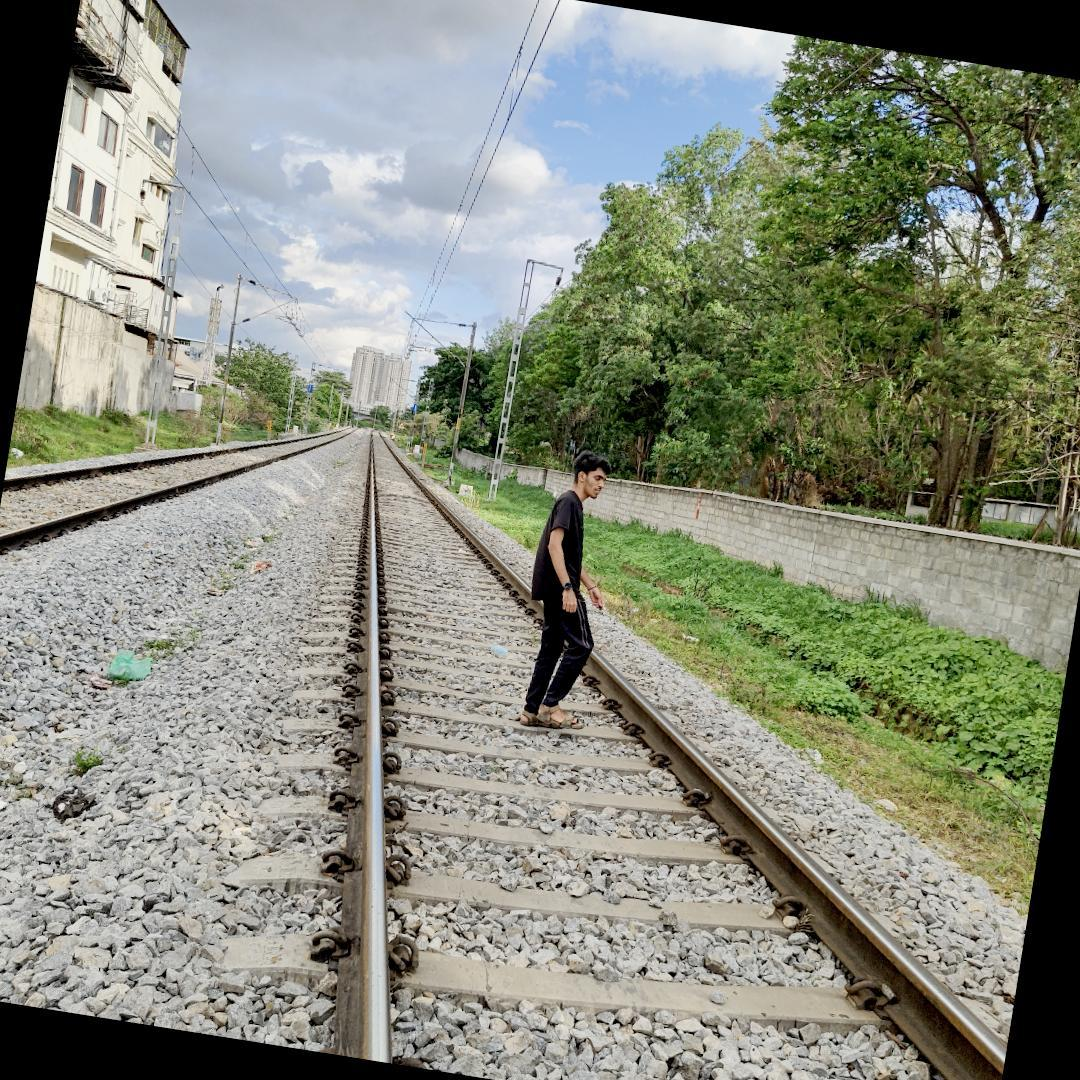standing: (503, 446, 623, 734)
